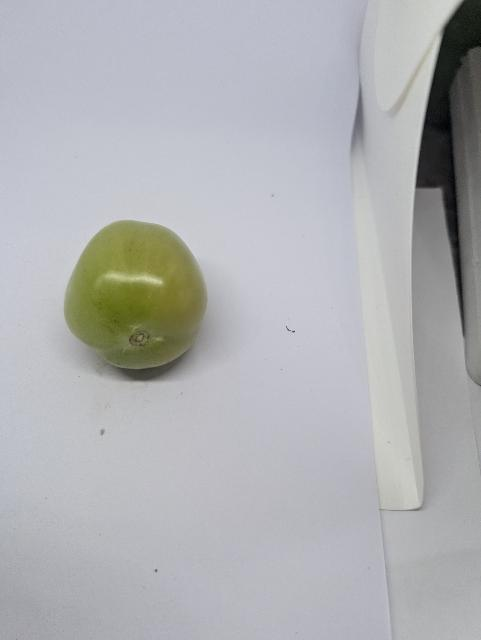green: (53, 215, 229, 377)
